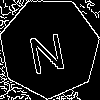N: (24, 23, 68, 75)
